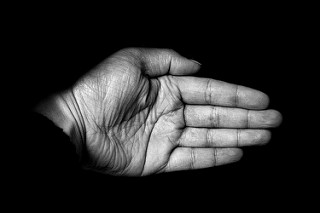palm: (92, 67, 199, 170)
